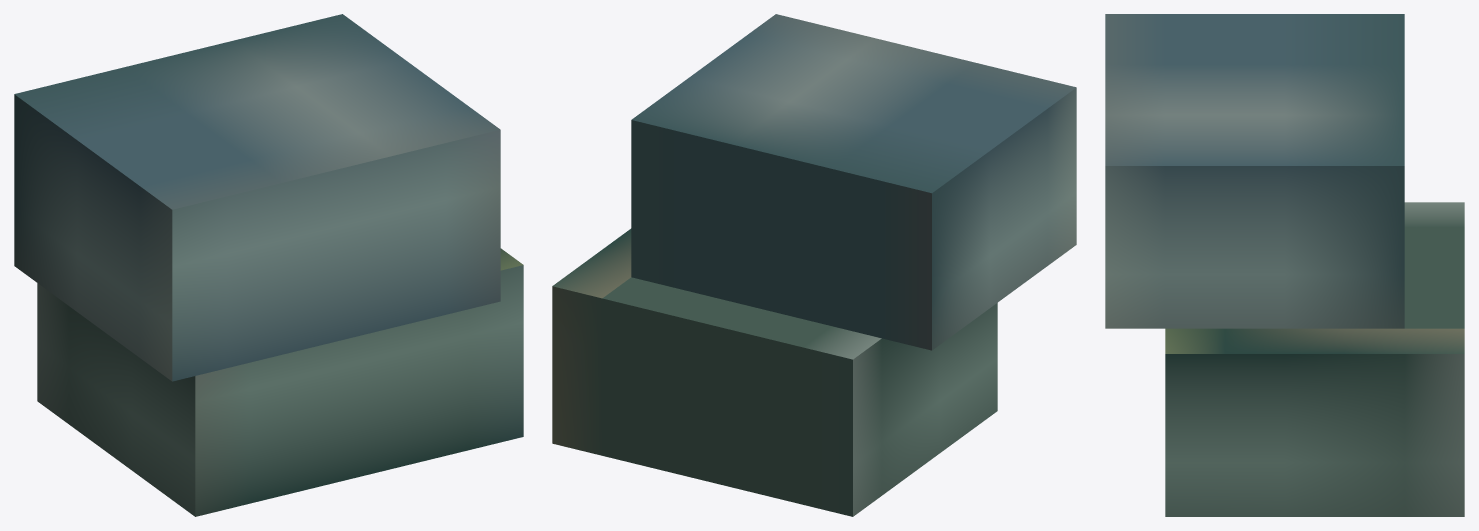
Rendered from BookStack_A_02.obj.
3 renders of one model, left to right at view 1: azimuth 30°, elevation 25°; view 2: azimuth 150°, elevation 25°; view 3: azimuth 270°, elevation 25°, orthographic. The views are drawn at different scales.
Parts seen in each view (by area): view 1: BookStack_A_02; view 2: BookStack_A_02; view 3: BookStack_A_02.
Part boxes in pixels (x1,y1,x2,y2): BookStack_A_02: (14,14,523,516); BookStack_A_02: (552,14,1076,516); BookStack_A_02: (1105,14,1464,516).
Size of the model in its own units: 0.35 by 0.3 by 0.3.
